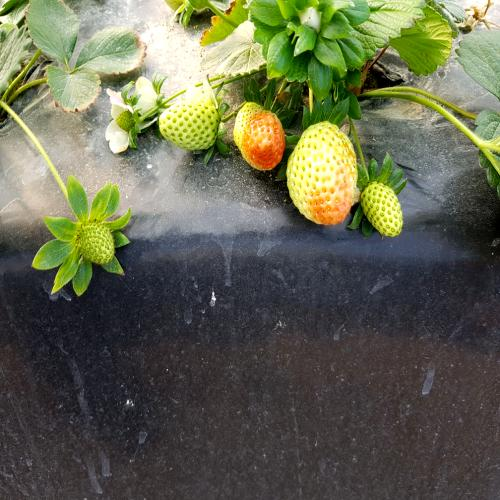partially-ripe: (289, 113, 361, 232), (227, 91, 288, 180)
